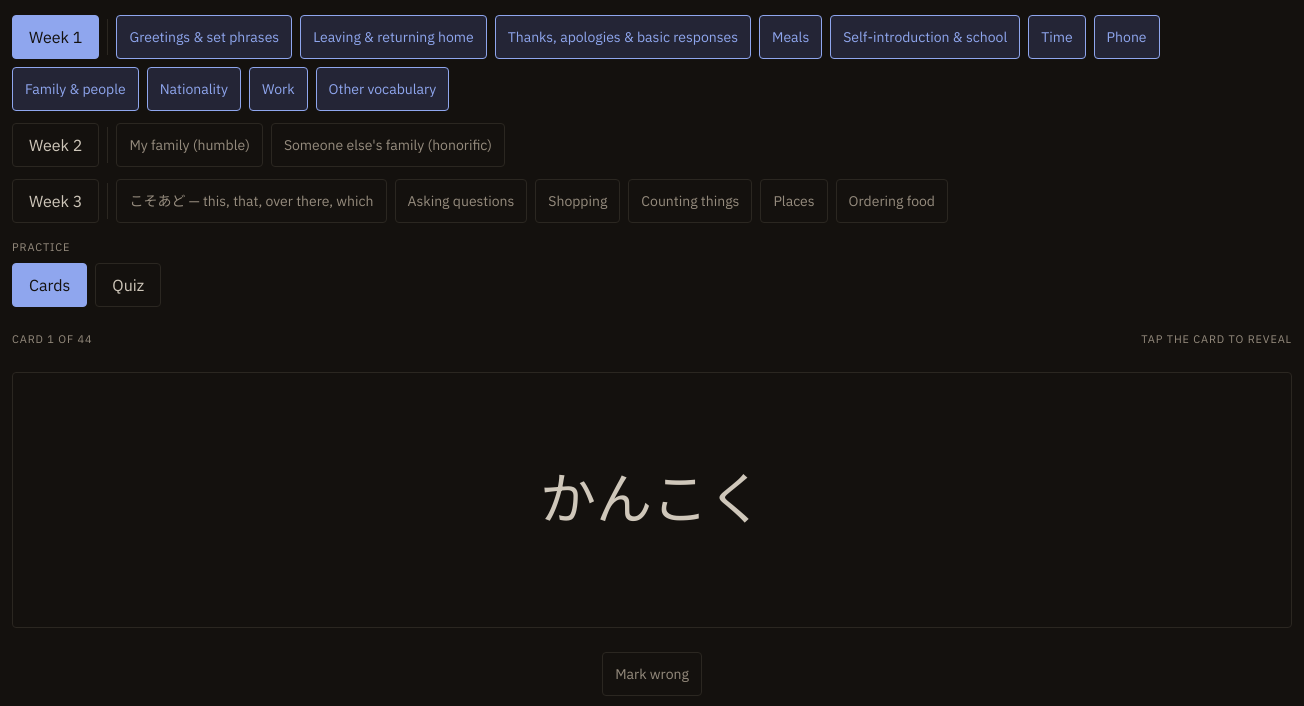
Test: marking vocabulary cards › redoes exactly the marked cards, with the marks cleared
Click the button "Week 1" at (56, 36), box [12,14,99,58]
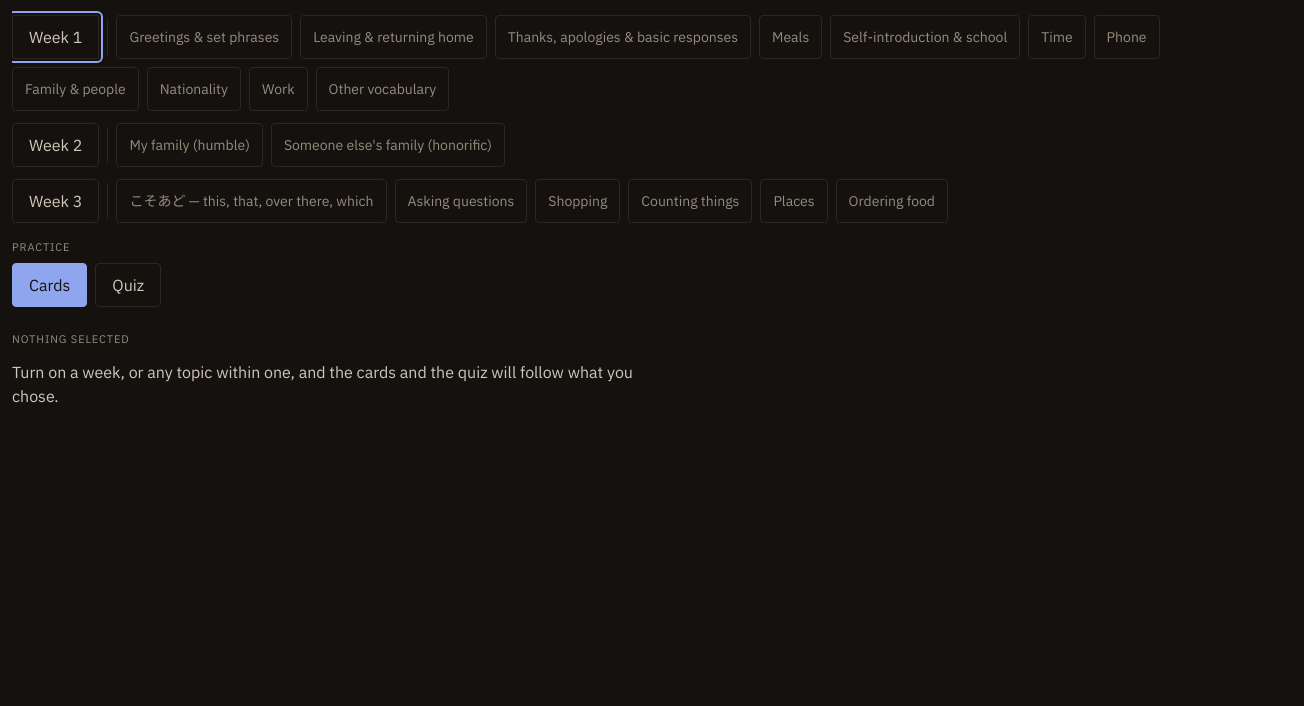
Click the button "Leaving & returning home" at (393, 36), box [300,14,487,58]
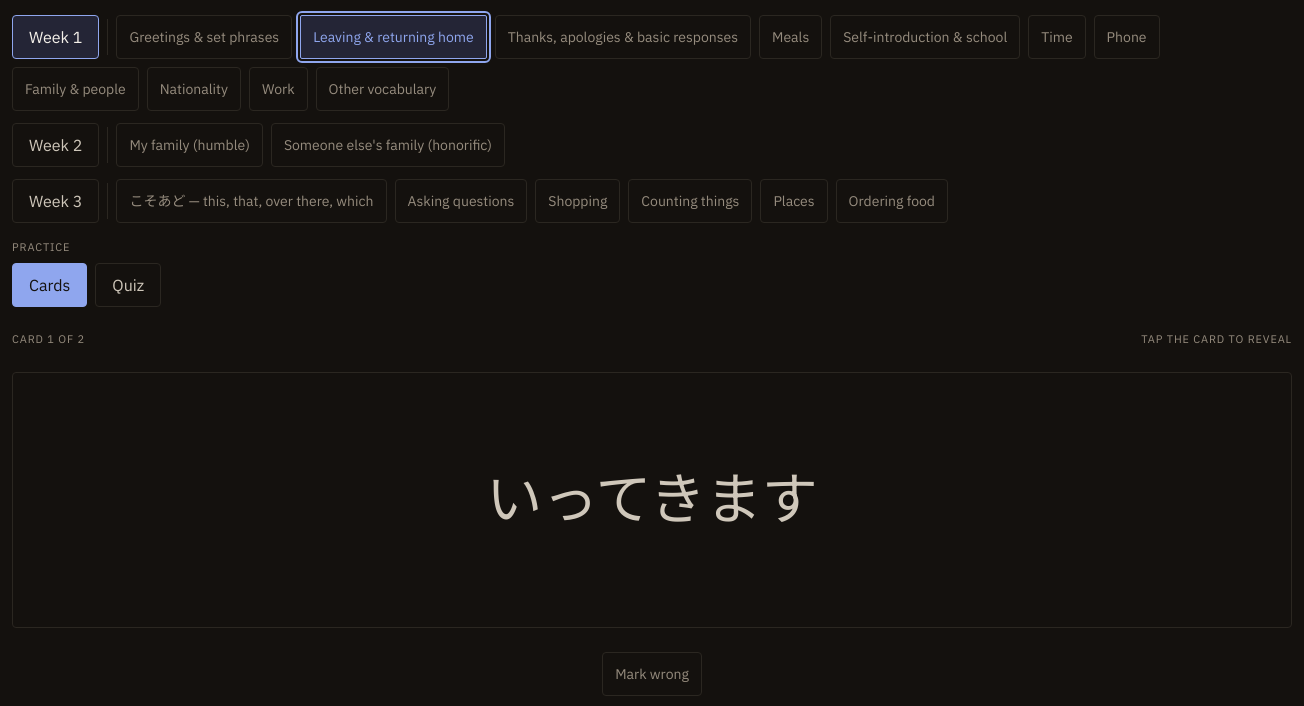
Click the button "Mark wrong" at (652, 674), box [602,652,702,696]
(page scrolled)
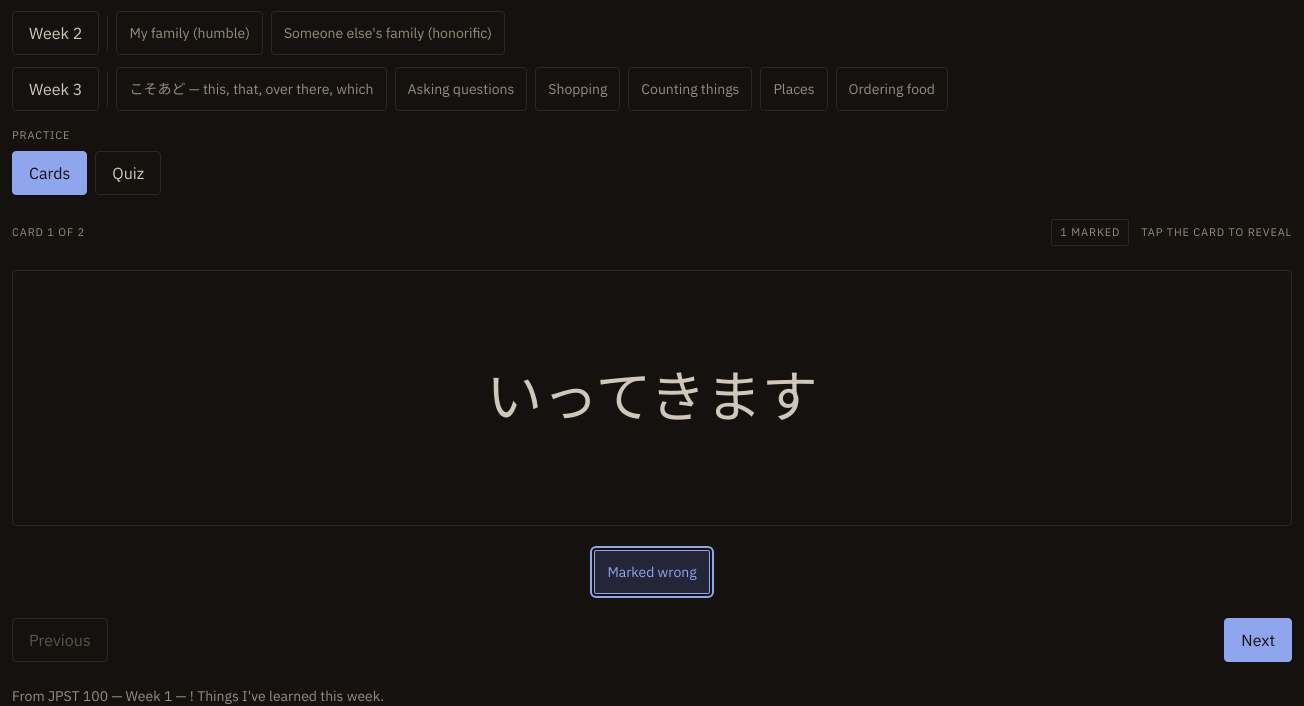
Click the button "Next" at (1258, 640), box [1224,618,1292,662]
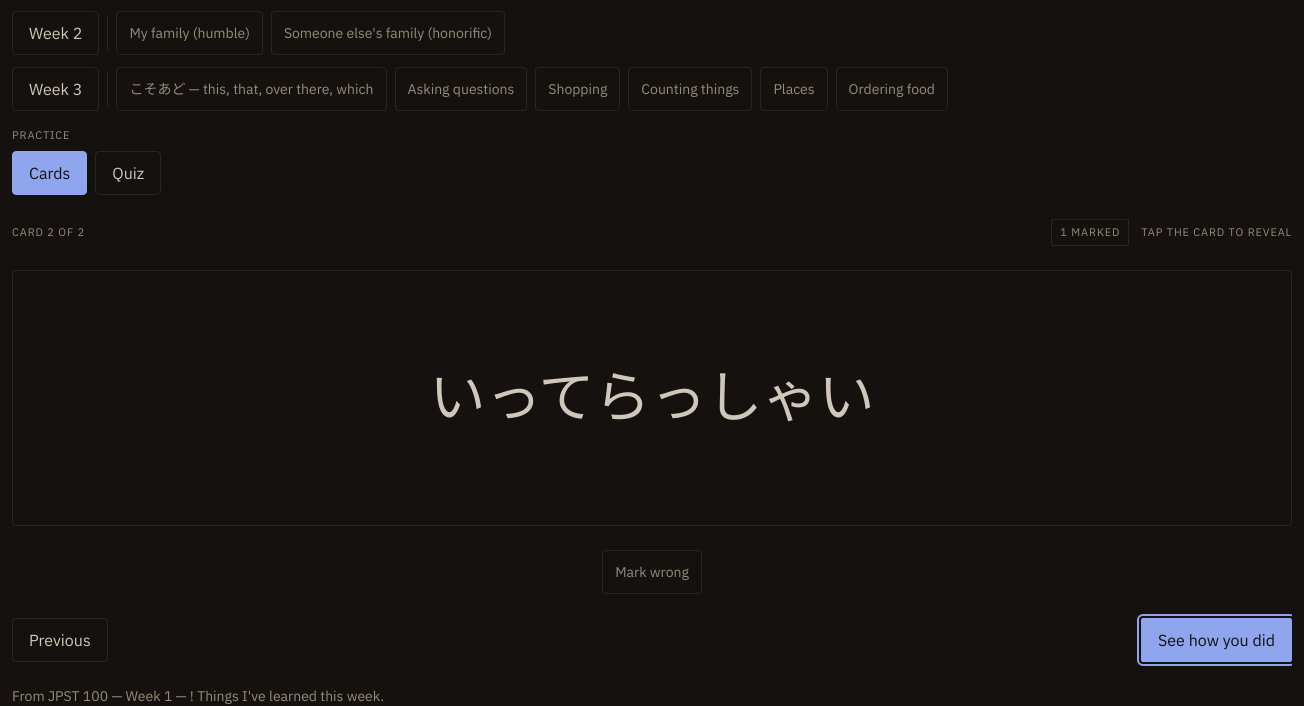
Click the button "See how you did" at (1216, 640), box [1141,618,1292,662]
(page scrolled)
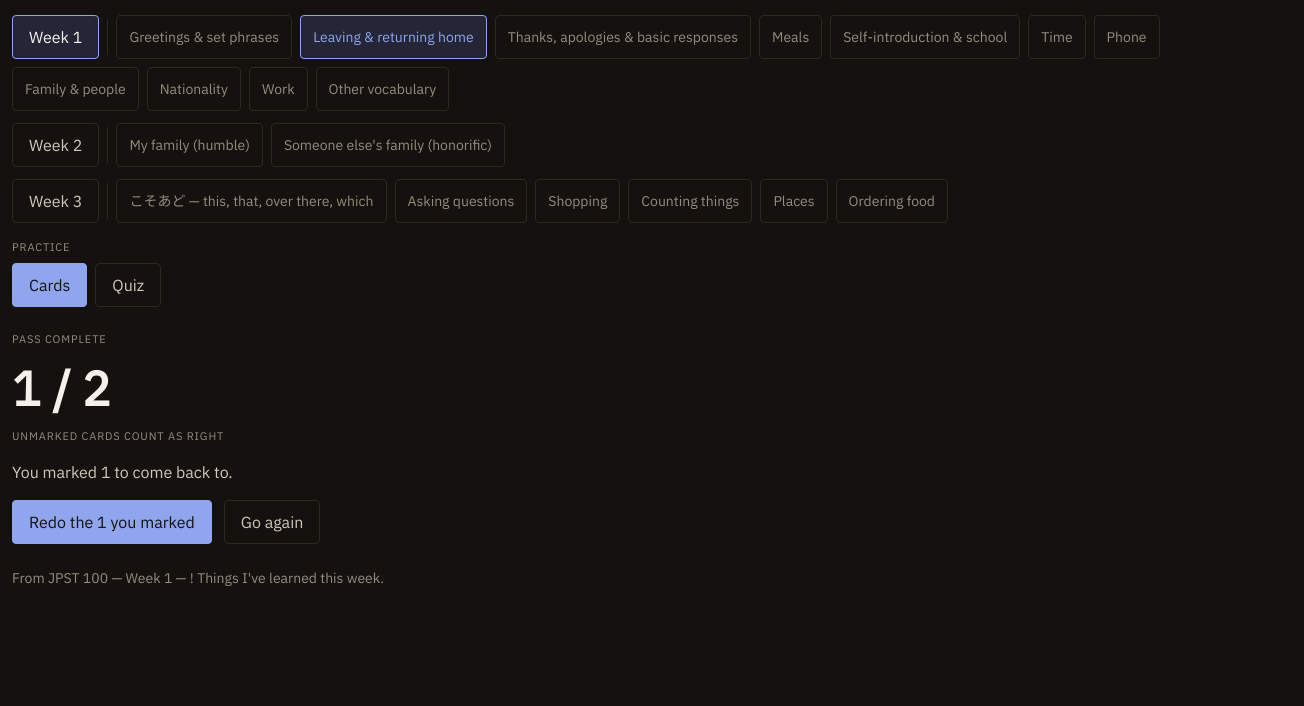
Now the heading "Pass complete" is shown, box [12,331,107,348]
Click the button "Redo the 1 you marked" at (112, 522), box [12,500,212,544]
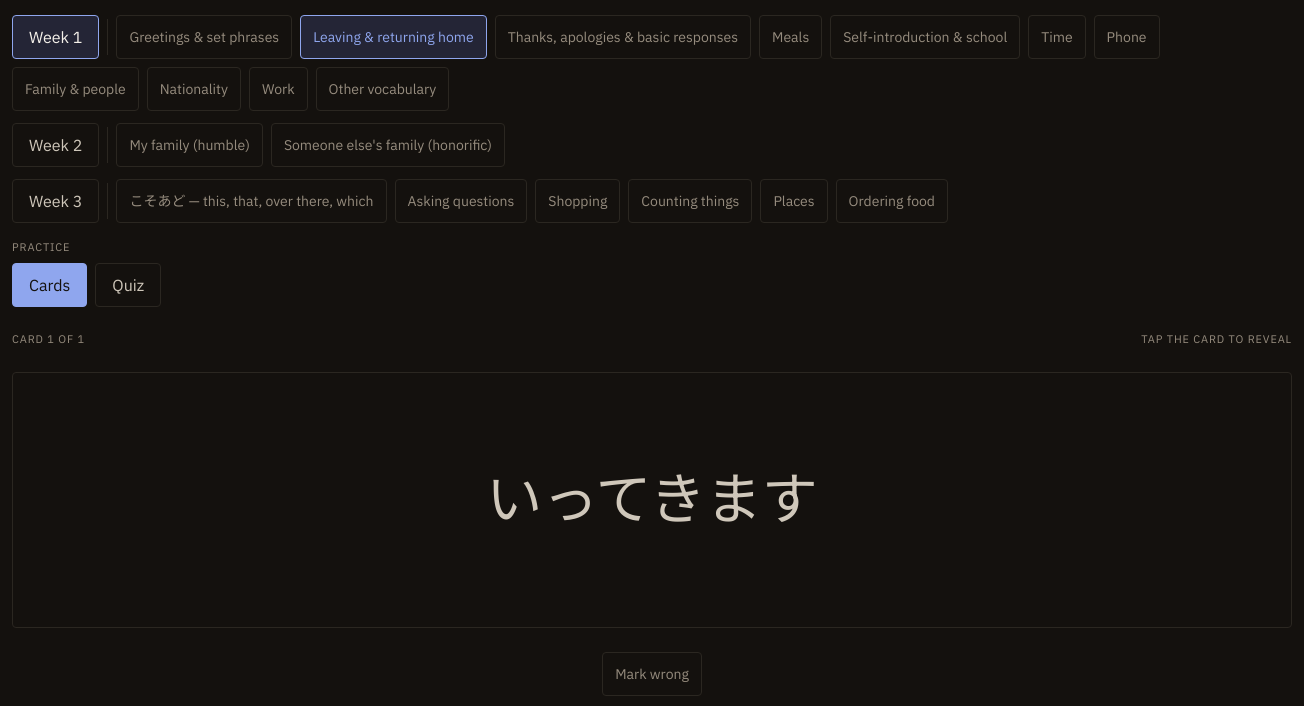
Now the heading "Card 1 of 1" is shown, box [12,331,85,348]
